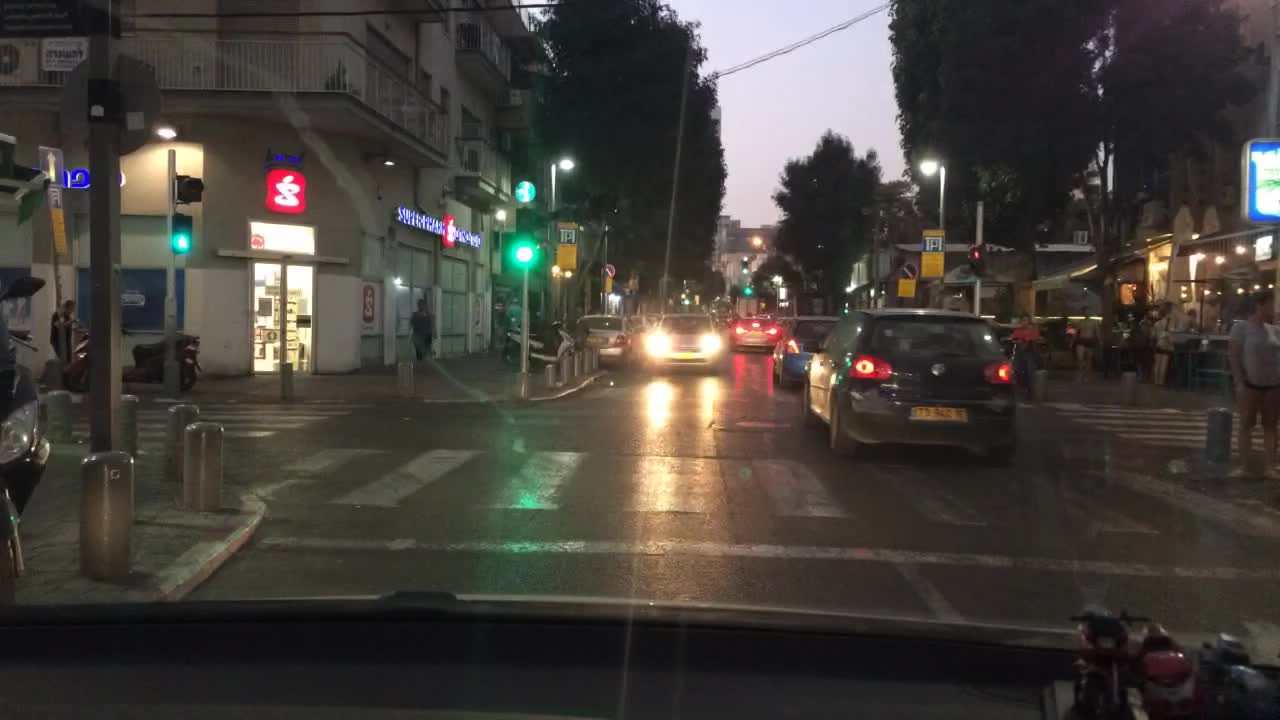car: (801, 305, 1025, 461), (642, 304, 727, 374), (771, 311, 840, 389), (575, 311, 631, 370), (725, 311, 781, 347)
motor: (0, 275, 46, 609), (64, 336, 200, 395), (499, 327, 570, 366)
person: (1228, 292, 1279, 481), (410, 299, 438, 366), (1015, 305, 1039, 383), (50, 297, 74, 356), (1074, 309, 1095, 376), (1157, 299, 1172, 381), (1125, 269, 1145, 309), (509, 299, 521, 336), (1184, 309, 1201, 334)
traffic light: (506, 208, 545, 272), (168, 210, 194, 254), (168, 169, 200, 204), (965, 245, 985, 275), (740, 282, 754, 298)
traffic sign: (553, 220, 578, 272), (921, 228, 944, 278), (511, 176, 537, 205), (894, 280, 921, 299), (599, 258, 614, 278), (897, 265, 917, 278)
